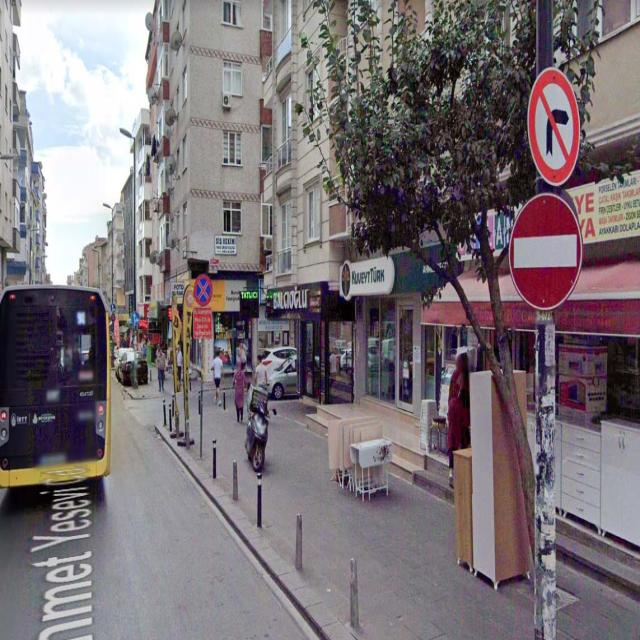girisyok: (509, 193, 582, 312)
sagadonulmez: (528, 67, 578, 185)
